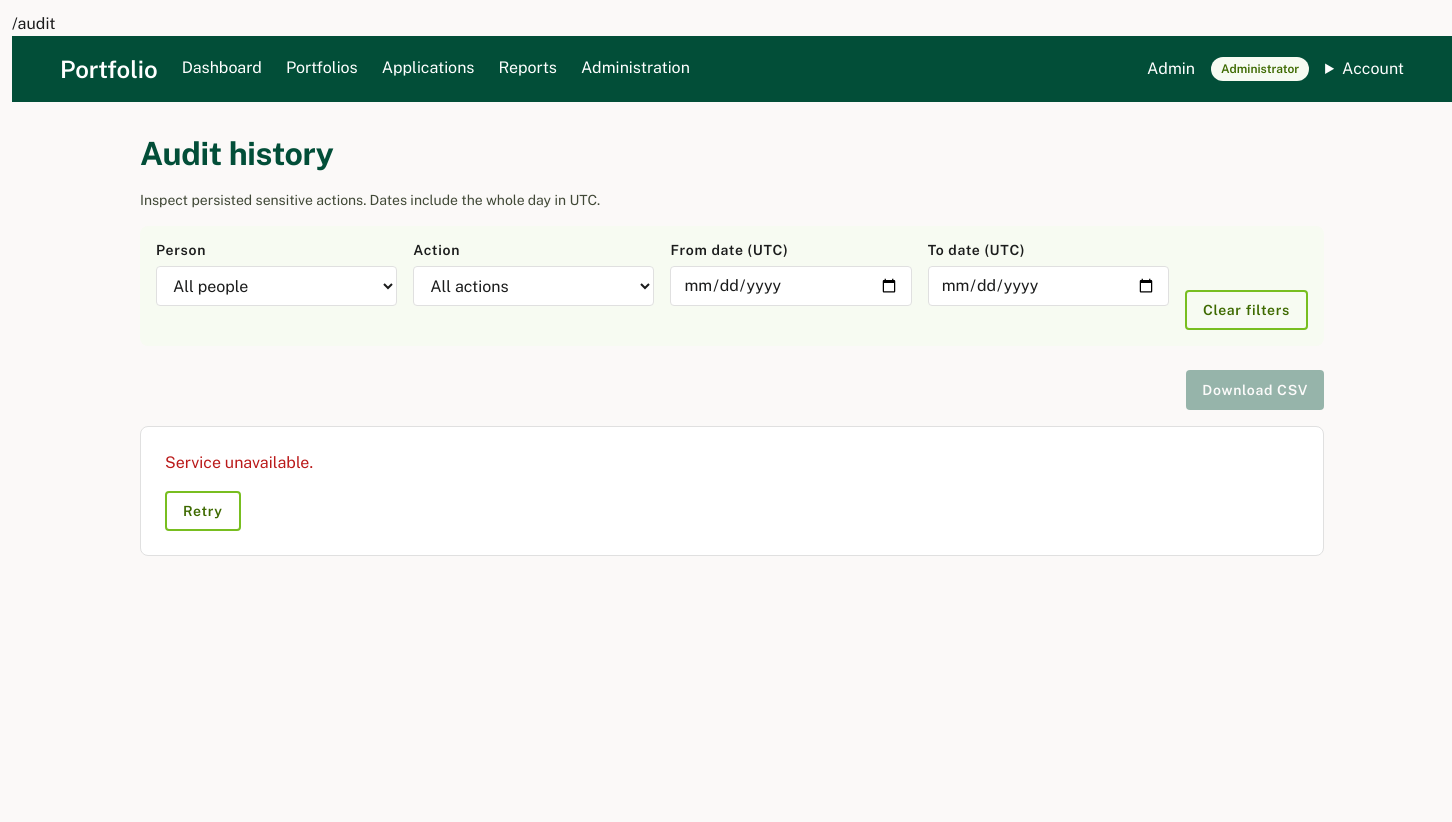
shows accessible loading then error and retry to empty without stale table
Expected: the button "Download CSV" is disabled, [1186,370,1324,410]
Expected: the message reads "Service unavailable.", [165,453,313,472]
Step 1. Click the button "Retry" → x=203, y=511, box [165,491,241,531]
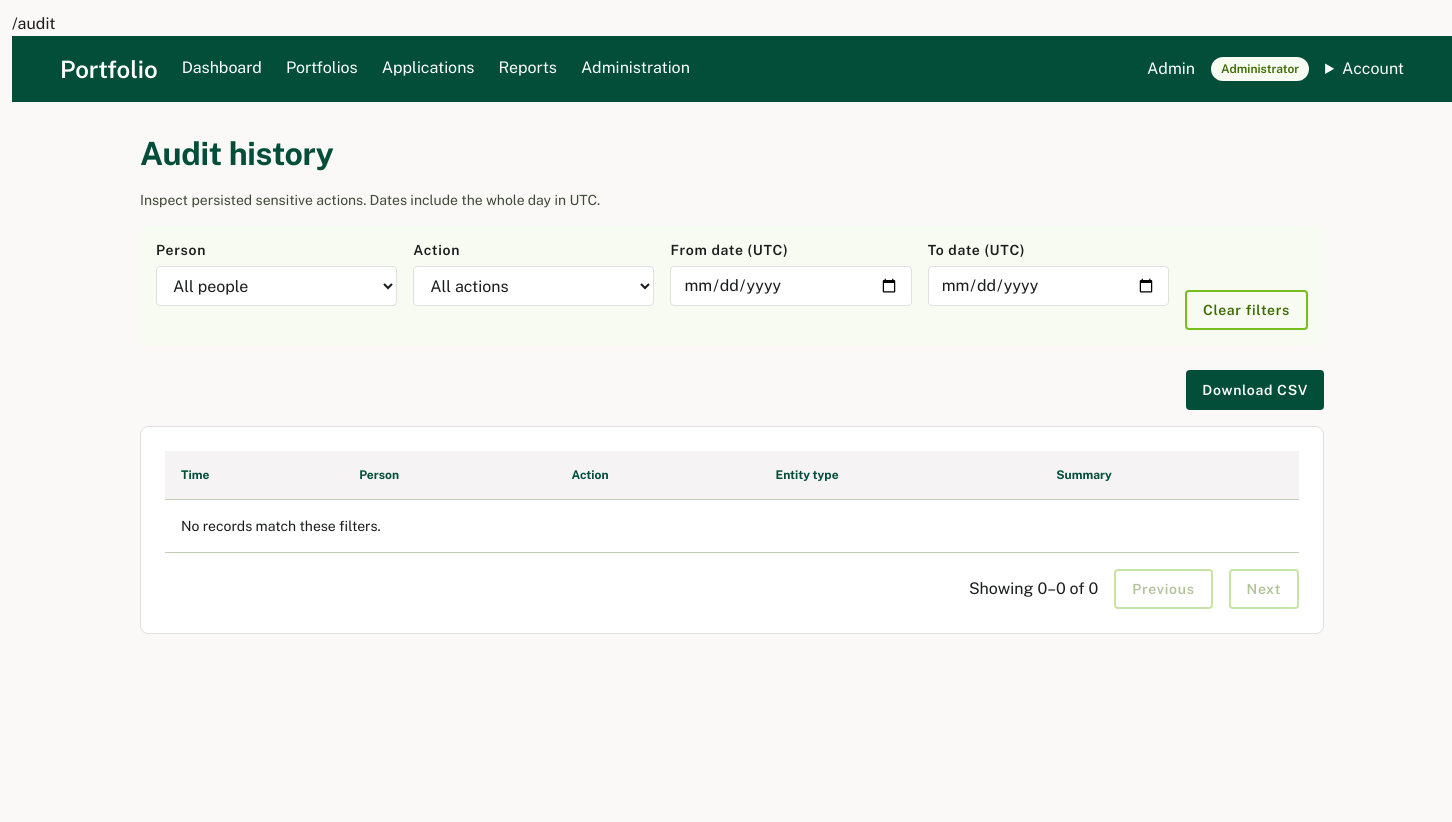
Now the text "No records match these filters." is shown, box [165,500,1299,552]
